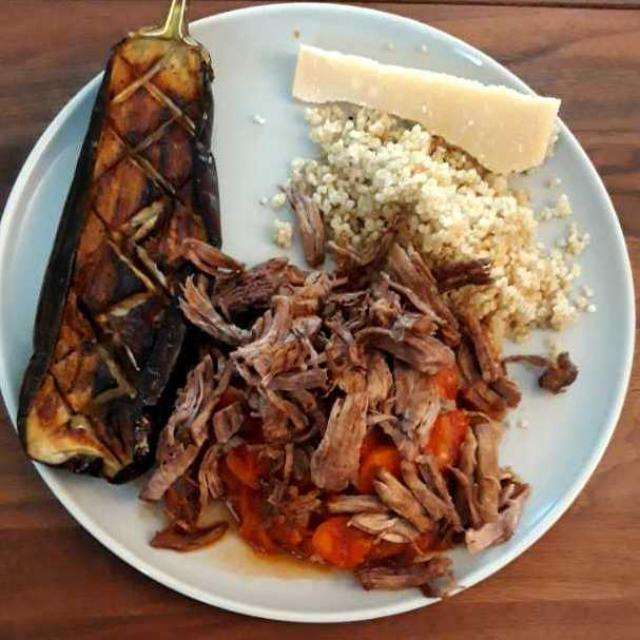cheese: (297, 50, 578, 190)
eggplant: (25, 22, 231, 499)
meat: (126, 174, 593, 610)
quinoa: (302, 98, 606, 334)
tomato: (202, 373, 506, 594)
